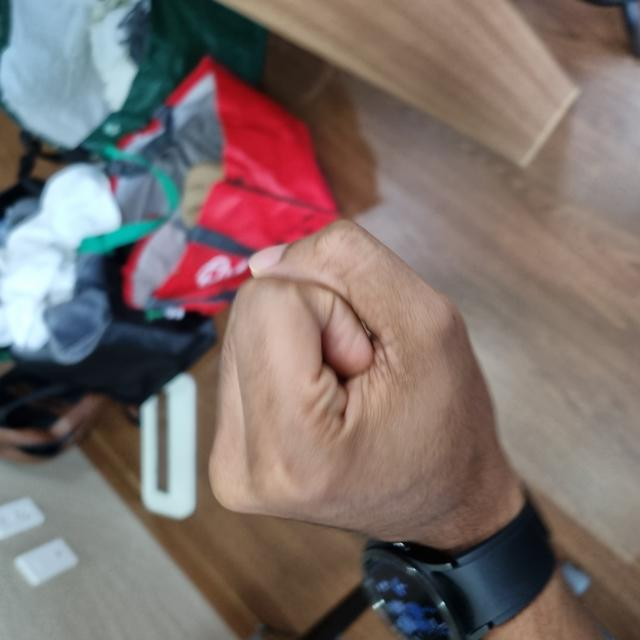Rock: (98, 213, 412, 514)
